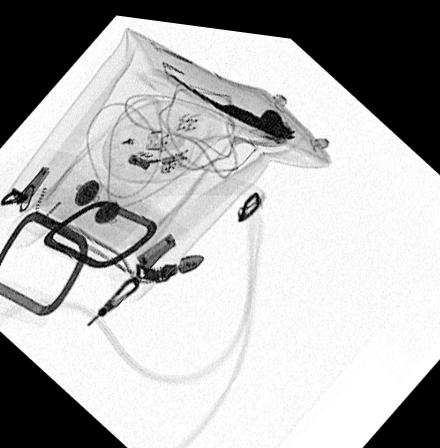Gun: (212, 94, 297, 134)
